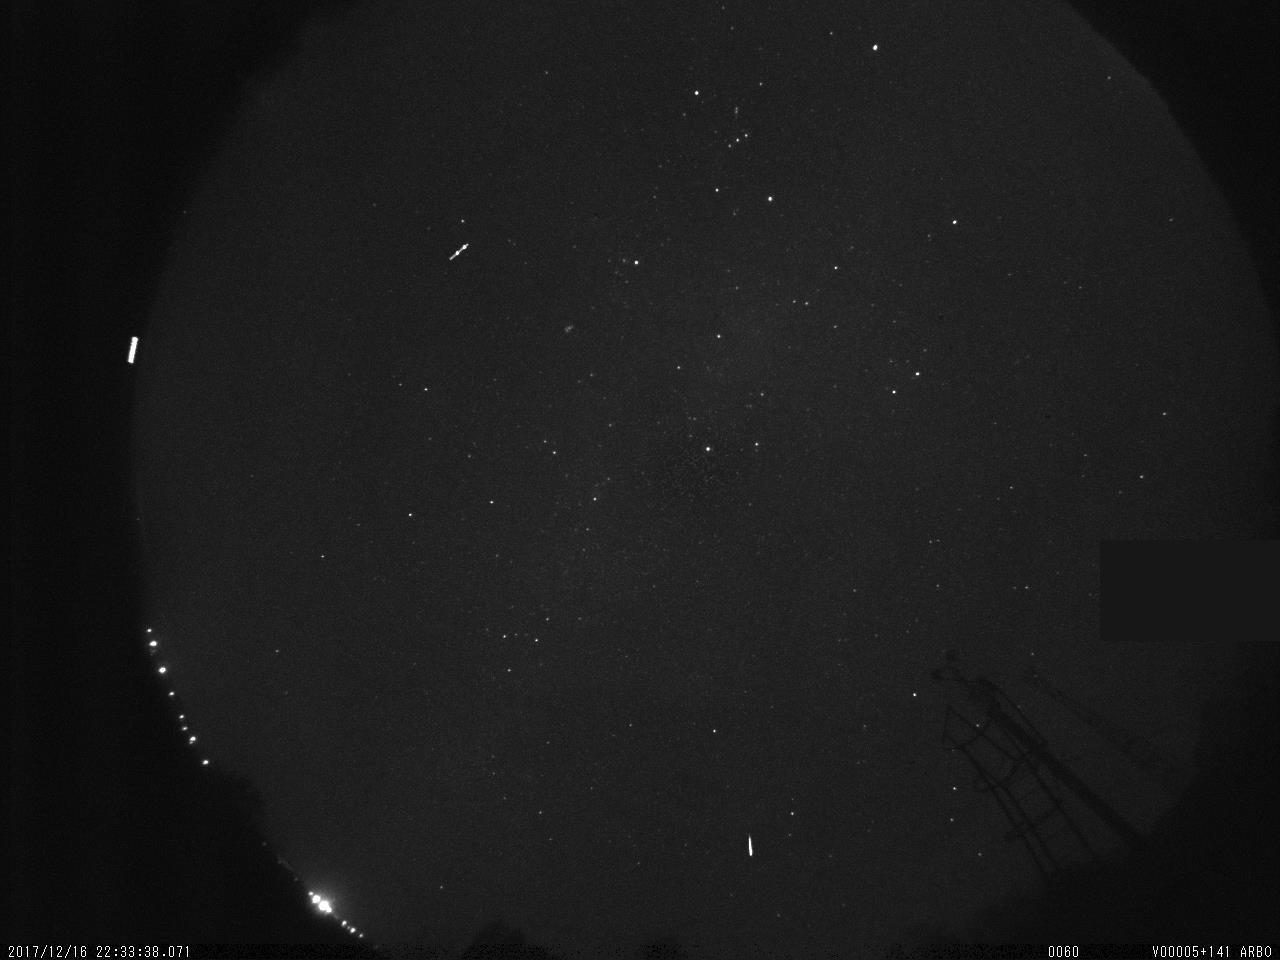meteor: (738, 831, 760, 862)
